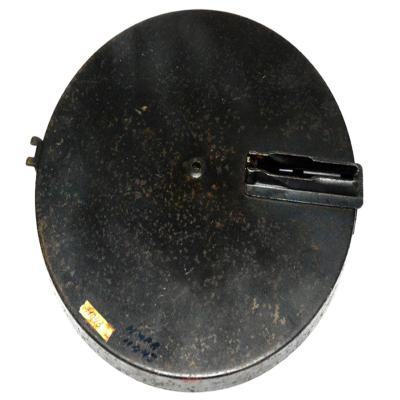weapon: (26, 9, 364, 395)
